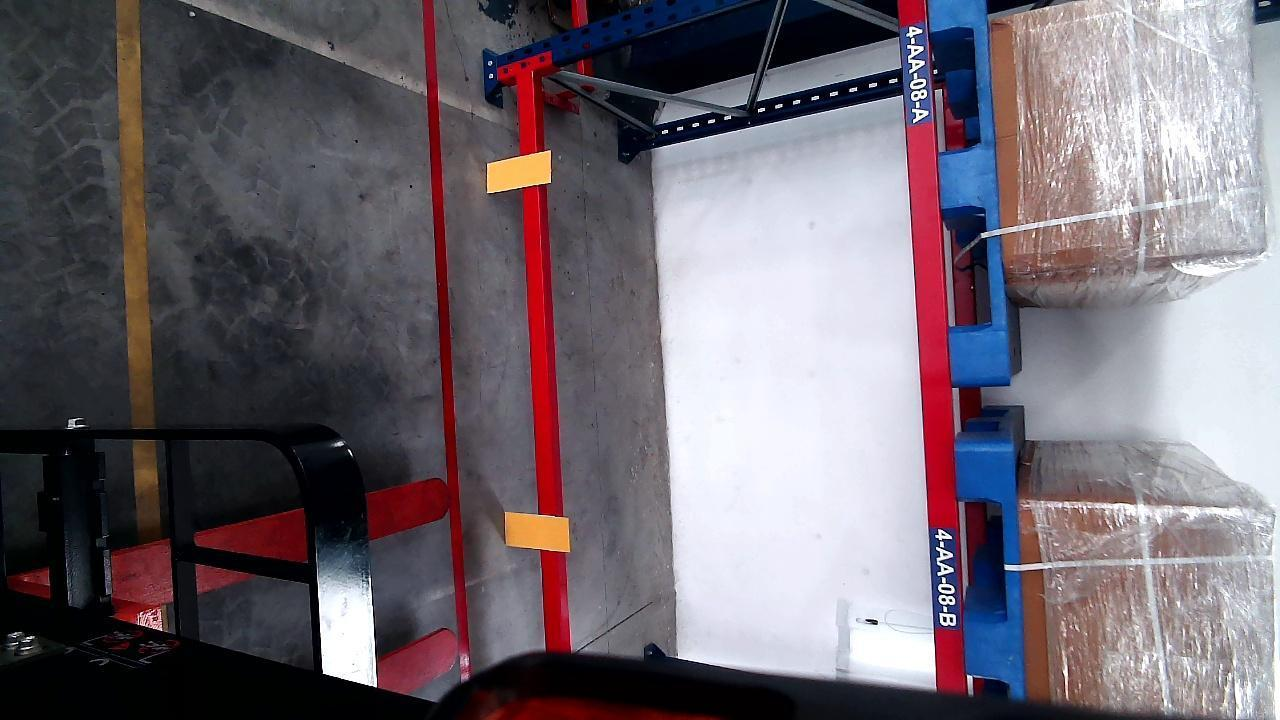h_rack: (899, 0, 966, 703), (516, 73, 567, 662)
orange_strip: (485, 149, 552, 193), (504, 511, 570, 552)
small_pallet: (946, 4, 1014, 383), (959, 444, 1024, 700)
yellow_line: (117, 0, 164, 534)
